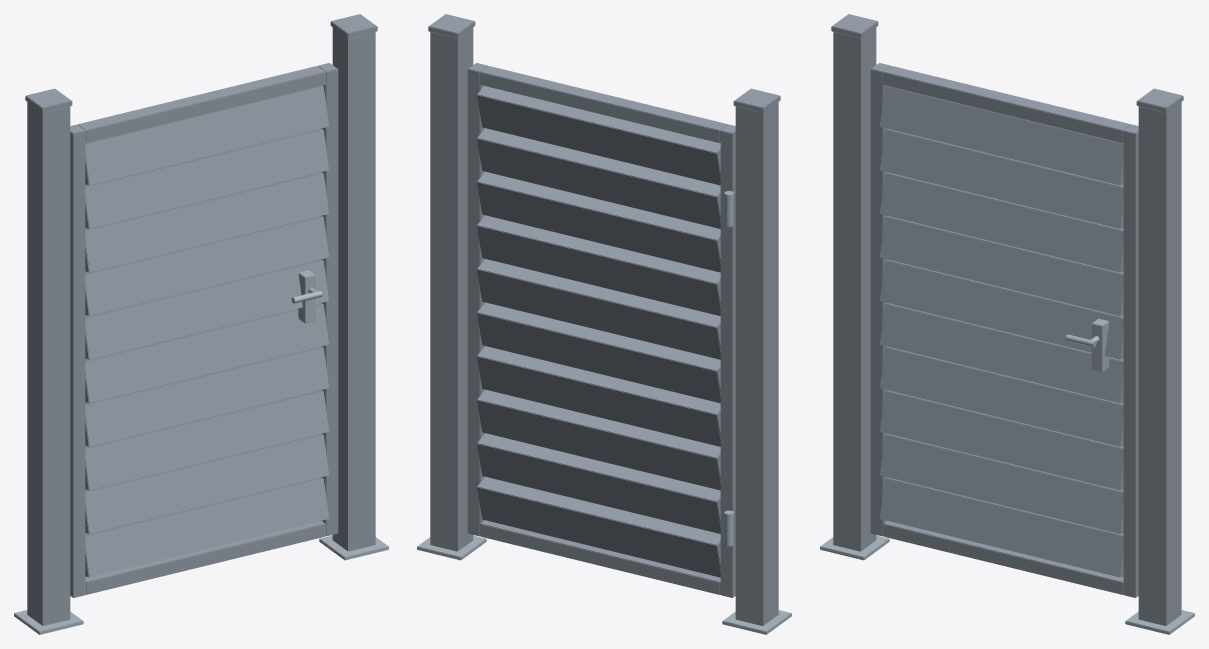
The model's file is 08-pesacka.glb.
3 views of the same model, side by side, from view 1: azimuth 30°, elevation 25°; view 2: azimuth 150°, elevation 25°; view 3: azimuth 330°, elevation 25° (orthographic).
Parts seen in each view (by area): view 1: Stub_levi.028, Stub_desni.028, Ispuna_horizontalna.092, Ispuna_horizontalna.085, Ispuna_horizontalna.087, Ispuna_horizontalna.093, Ispuna_horizontalna.086, Ispuna_horizontalna.088, Ispuna_horizontalna.091, Ispuna_horizontalna.094, Ispuna_horizontalna.089, Ispuna_horizontalna.090 (+9 smaller); view 2: Stub_levi.028, Stub_desni.028, Ispuna_horizontalna.087, Ispuna_horizontalna.092, Ispuna_horizontalna.085, Ispuna_horizontalna.086, Ispuna_horizontalna.088, Ispuna_horizontalna.090, Ispuna_horizontalna.089, Ispuna_horizontalna.093, Ispuna_horizontalna.091, Ispuna_horizontalna.094 (+8 smaller); view 3: Stub_desni.028, Stub_levi.028, Ispuna_horizontalna.092, Ispuna_horizontalna.085, Ispuna_horizontalna.087, Ispuna_horizontalna.093, Ispuna_horizontalna.086, Ispuna_horizontalna.088, Ispuna_horizontalna.091, Ispuna_horizontalna.094, Ispuna_horizontalna.089, Ispuna_horizontalna.090 (+9 smaller).
Part boxes in pixels (x1,y1,x2,y2): Stub_levi.028: (27,102,70,625); Stub_desni.028: (332,27,375,551); Ispuna_horizontalna.092: (85,172,328,272); Ispuna_horizontalna.085: (85,477,328,577); Ispuna_horizontalna.087: (85,390,328,490); Ispuna_horizontalna.093: (85,129,328,228); Ispuna_horizontalna.086: (85,434,328,533); Ispuna_horizontalna.088: (85,346,328,446); Ispuna_horizontalna.091: (85,216,328,315); Ispuna_horizontalna.094: (85,85,328,185); Ispuna_horizontalna.089: (85,303,328,402); Ispuna_horizontalna.090: (85,259,328,359); Stub_levi.028: (735,102,778,625); Stub_desni.028: (430,27,473,551); Ispuna_horizontalna.087: (477,389,720,490); Ispuna_horizontalna.092: (477,171,720,272); Ispuna_horizontalna.085: (477,476,720,577); Ispuna_horizontalna.086: (477,433,720,533); Ispuna_horizontalna.088: (477,346,720,446); Ispuna_horizontalna.090: (477,259,720,359); Ispuna_horizontalna.089: (477,302,720,403); Ispuna_horizontalna.093: (477,128,720,228); Ispuna_horizontalna.091: (477,215,720,315); Ispuna_horizontalna.094: (477,86,720,185); Stub_desni.028: (1138,102,1181,625); Stub_levi.028: (833,27,876,551); Ispuna_horizontalna.092: (880,172,1123,272); Ispuna_horizontalna.085: (880,477,1123,577); Ispuna_horizontalna.087: (880,390,1123,490); Ispuna_horizontalna.093: (880,129,1123,228); Ispuna_horizontalna.086: (880,434,1123,533); Ispuna_horizontalna.088: (880,346,1123,446); Ispuna_horizontalna.091: (880,216,1123,315); Ispuna_horizontalna.094: (880,85,1123,185); Ispuna_horizontalna.089: (880,303,1123,402); Ispuna_horizontalna.090: (880,259,1123,359).
Bounding box in the file's own units: 1.26 × 1.8 × 0.19.
